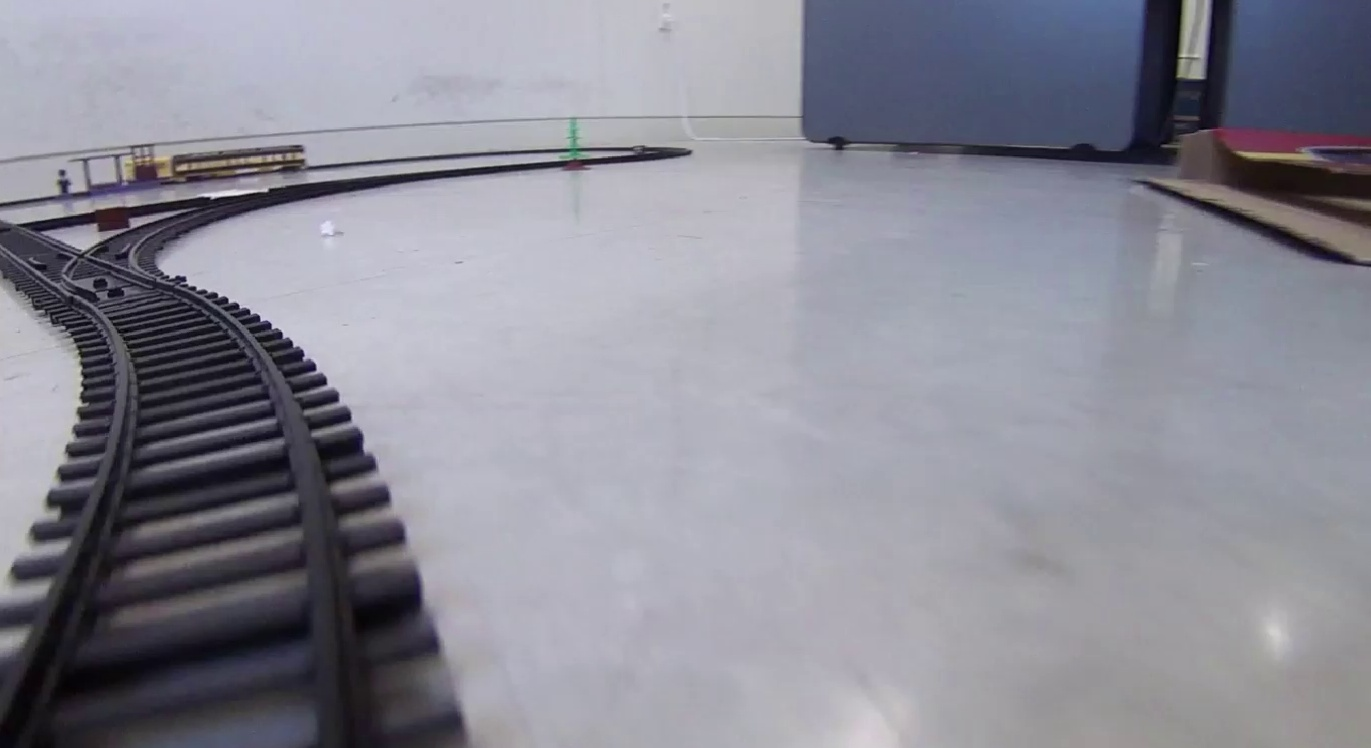box: (96, 207, 131, 230)
